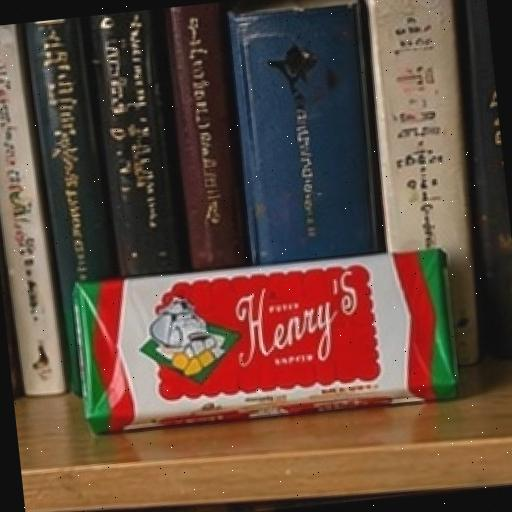golden: (30, 170, 512, 495)
